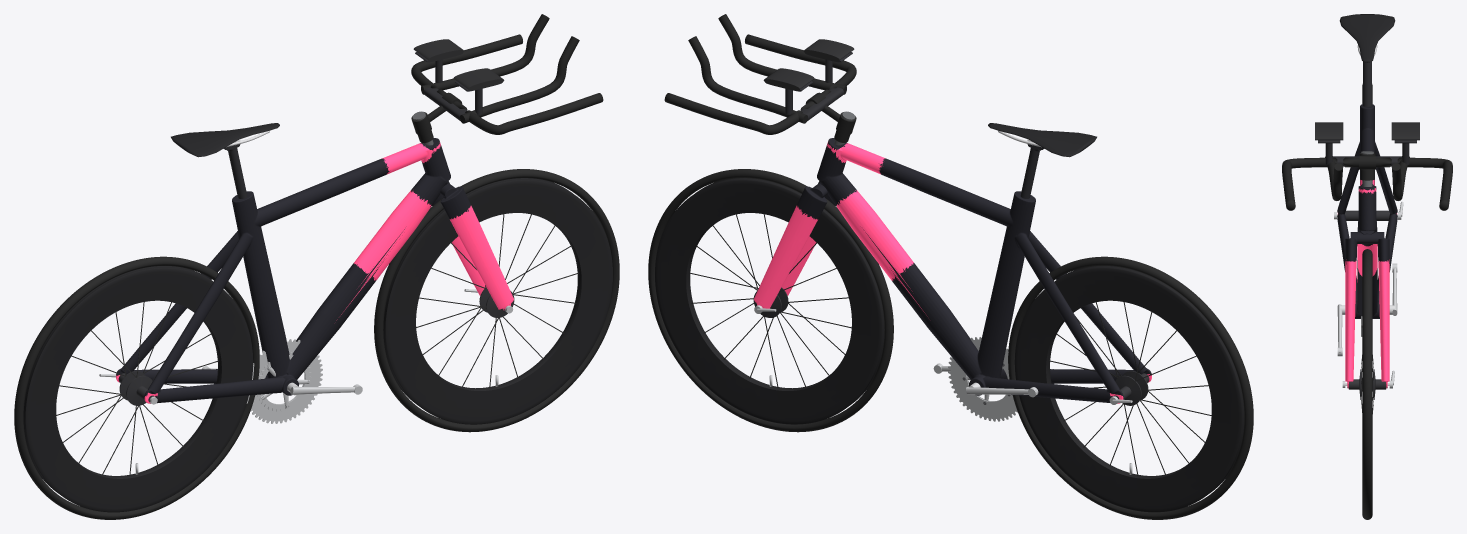
Rendered from bike_web.glb.
3 views of the same model, side by side, from view 1: azimuth 30°, elevation 25°; view 2: azimuth 150°, elevation 25°; view 3: azimuth 270°, elevation 25° (orthographic). The views are drawn at different scales.
Parts seen in each view (by area): view 1: frame, rim_front, rim_rear, tyre_rear, tyre_front, clipons, fork, basebar, chainrings, spokes_front, saddle, spokes_rear (+3 smaller); view 2: frame, rim_front, rim_rear, tyre_rear, tyre_front, clipons, fork, basebar, chainrings, spokes_front, spokes_rear, saddle (+3 smaller); view 3: frame, fork, tyre_front, clipons, basebar, saddle, crank_arms, stem, seatpost, hub_front, hub_rear.
Part boxes in pixels (box(x1,y1,x2,y2)): frame: box(116, 138, 450, 403); rim_front: box(383, 178, 612, 424); rim_rear: box(23, 266, 253, 512); tyre_rear: box(14, 256, 259, 519); tyre_front: box(374, 169, 619, 432); clipons: box(413, 14, 579, 123); fork: box(432, 181, 513, 310); basebar: box(411, 34, 603, 134); chainrings: box(246, 339, 322, 423); spokes_front: box(416, 214, 578, 387); saddle: box(171, 123, 279, 157); spokes_rear: box(56, 302, 218, 475); frame: box(817, 138, 1151, 403); rim_front: box(655, 178, 884, 424); rim_rear: box(1014, 266, 1244, 512); tyre_rear: box(1008, 256, 1253, 519); tyre_front: box(648, 169, 893, 432); clipons: box(688, 14, 854, 123); fork: box(754, 181, 835, 308); basebar: box(664, 34, 856, 134); chainrings: box(948, 337, 1017, 421); spokes_front: box(689, 214, 851, 387); spokes_rear: box(1049, 302, 1211, 475); saddle: box(988, 123, 1096, 157); frame: box(1337, 104, 1397, 318); fork: box(1345, 232, 1389, 388); tyre_front: box(1362, 249, 1372, 519); clipons: box(1315, 122, 1419, 200); basebar: box(1282, 157, 1452, 210); saddle: box(1339, 14, 1395, 62); crank_arms: box(1337, 263, 1397, 356); stem: box(1359, 151, 1375, 186); seatpost: box(1363, 61, 1371, 106); hub_front: box(1347, 369, 1387, 399); hub_rear: box(1345, 210, 1389, 220).
Size of the model in its own units: 1.66 by 1.02 by 0.4241.
